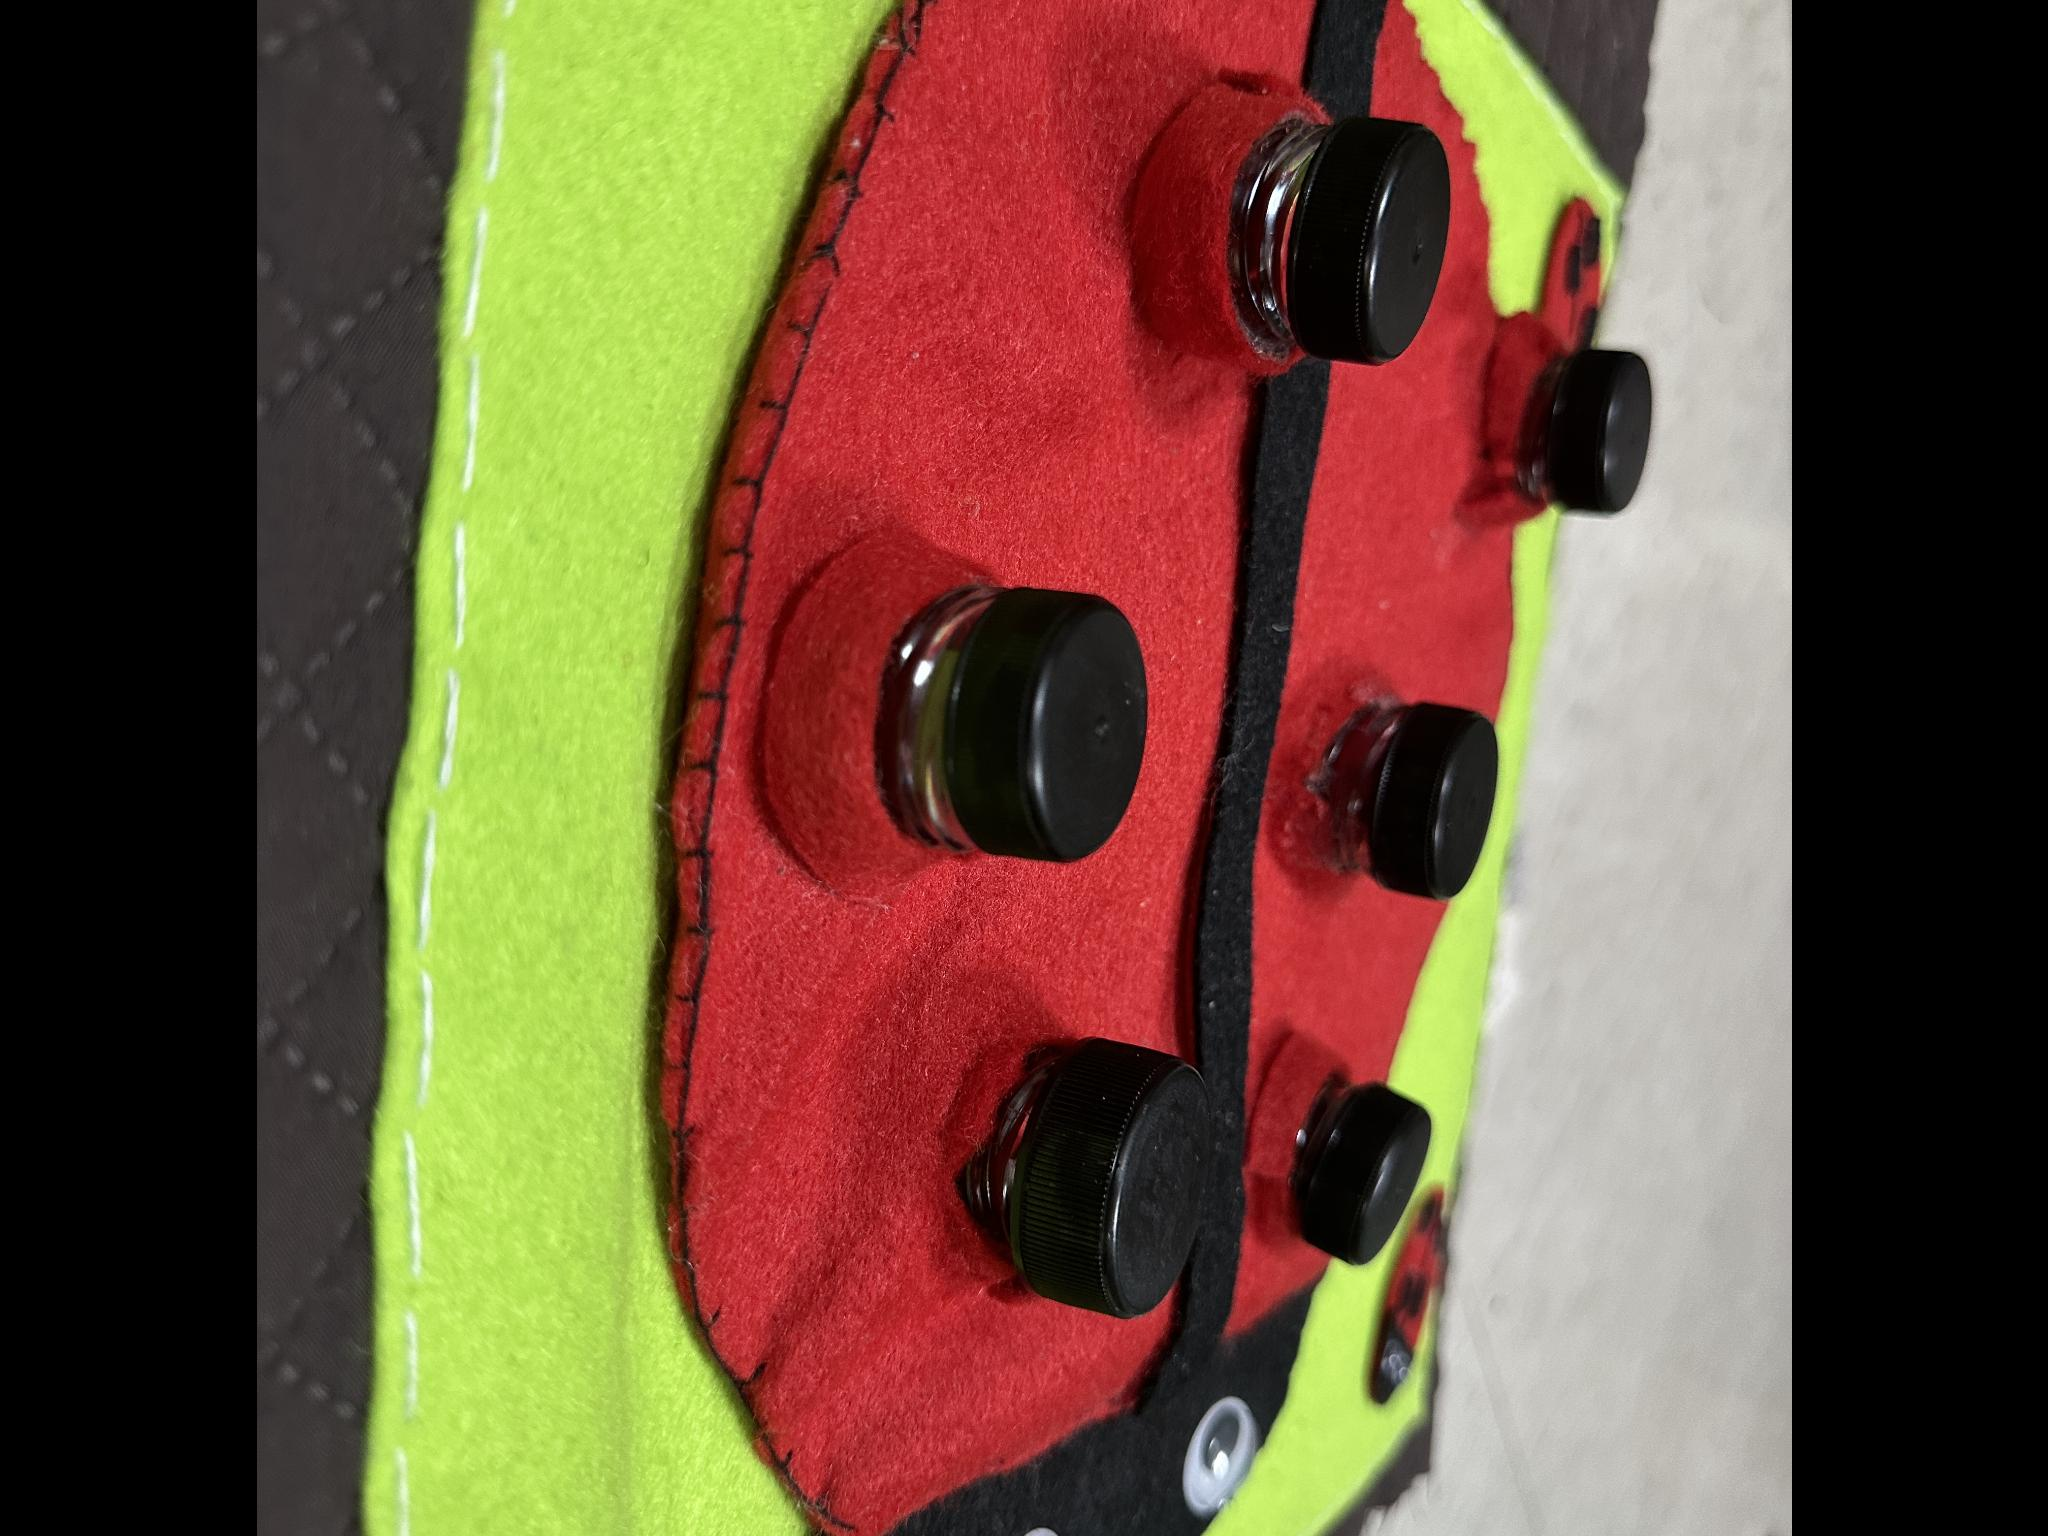cap_ng: (763, 513, 1164, 904), (1106, 66, 1466, 381), (910, 994, 1222, 1347), (1276, 665, 1501, 921), (1240, 1034, 1435, 1286), (1466, 303, 1669, 528)
